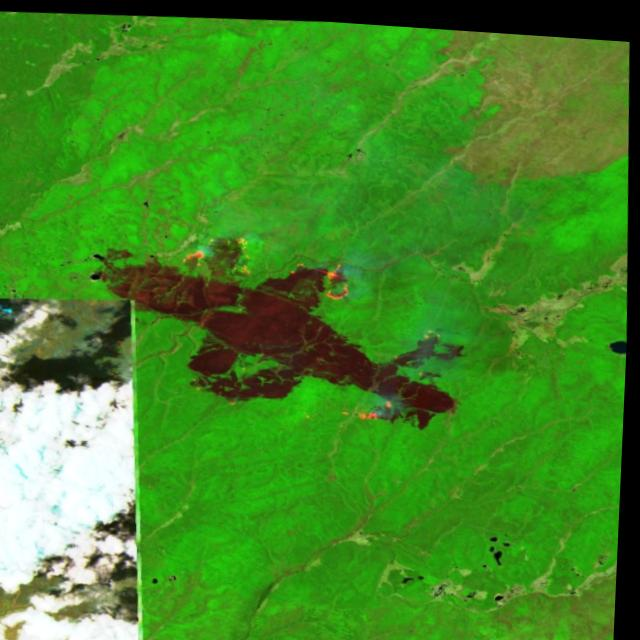fire: (288, 252, 356, 297), (348, 387, 404, 419), (173, 239, 217, 268)
